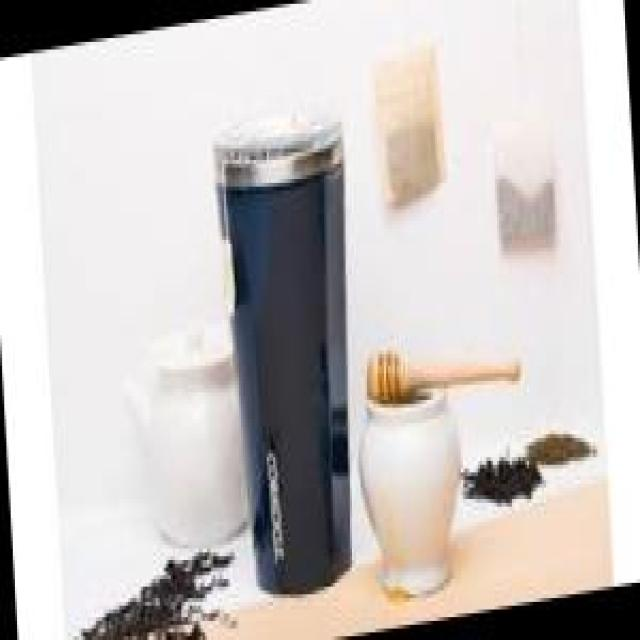bottle: (211, 103, 367, 609)
